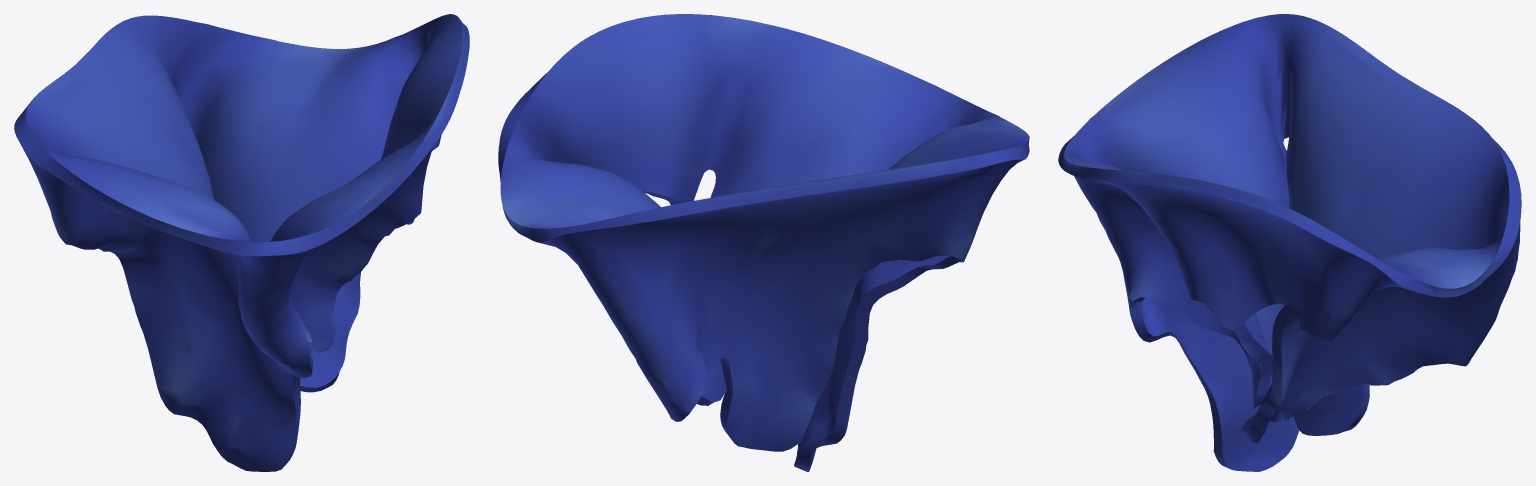
3 views of the same model, side by side, from view 1: azimuth 30°, elevation 25°; view 2: azimuth 150°, elevation 25°; view 3: azimuth 270°, elevation 25° (orthographic). The views are drawn at different scales.
Parts seen in each view (by area): view 1: OCS14_maxS_4; view 2: OCS14_maxS_4; view 3: OCS14_maxS_4.
Part boxes in pixels (x1,y1,x2,y2): OCS14_maxS_4: (14,14,469,471); OCS14_maxS_4: (498,14,1029,471); OCS14_maxS_4: (1058,14,1521,471).
Bounding box in the file's own units: 1.44 × 1.17 × 1.32.
